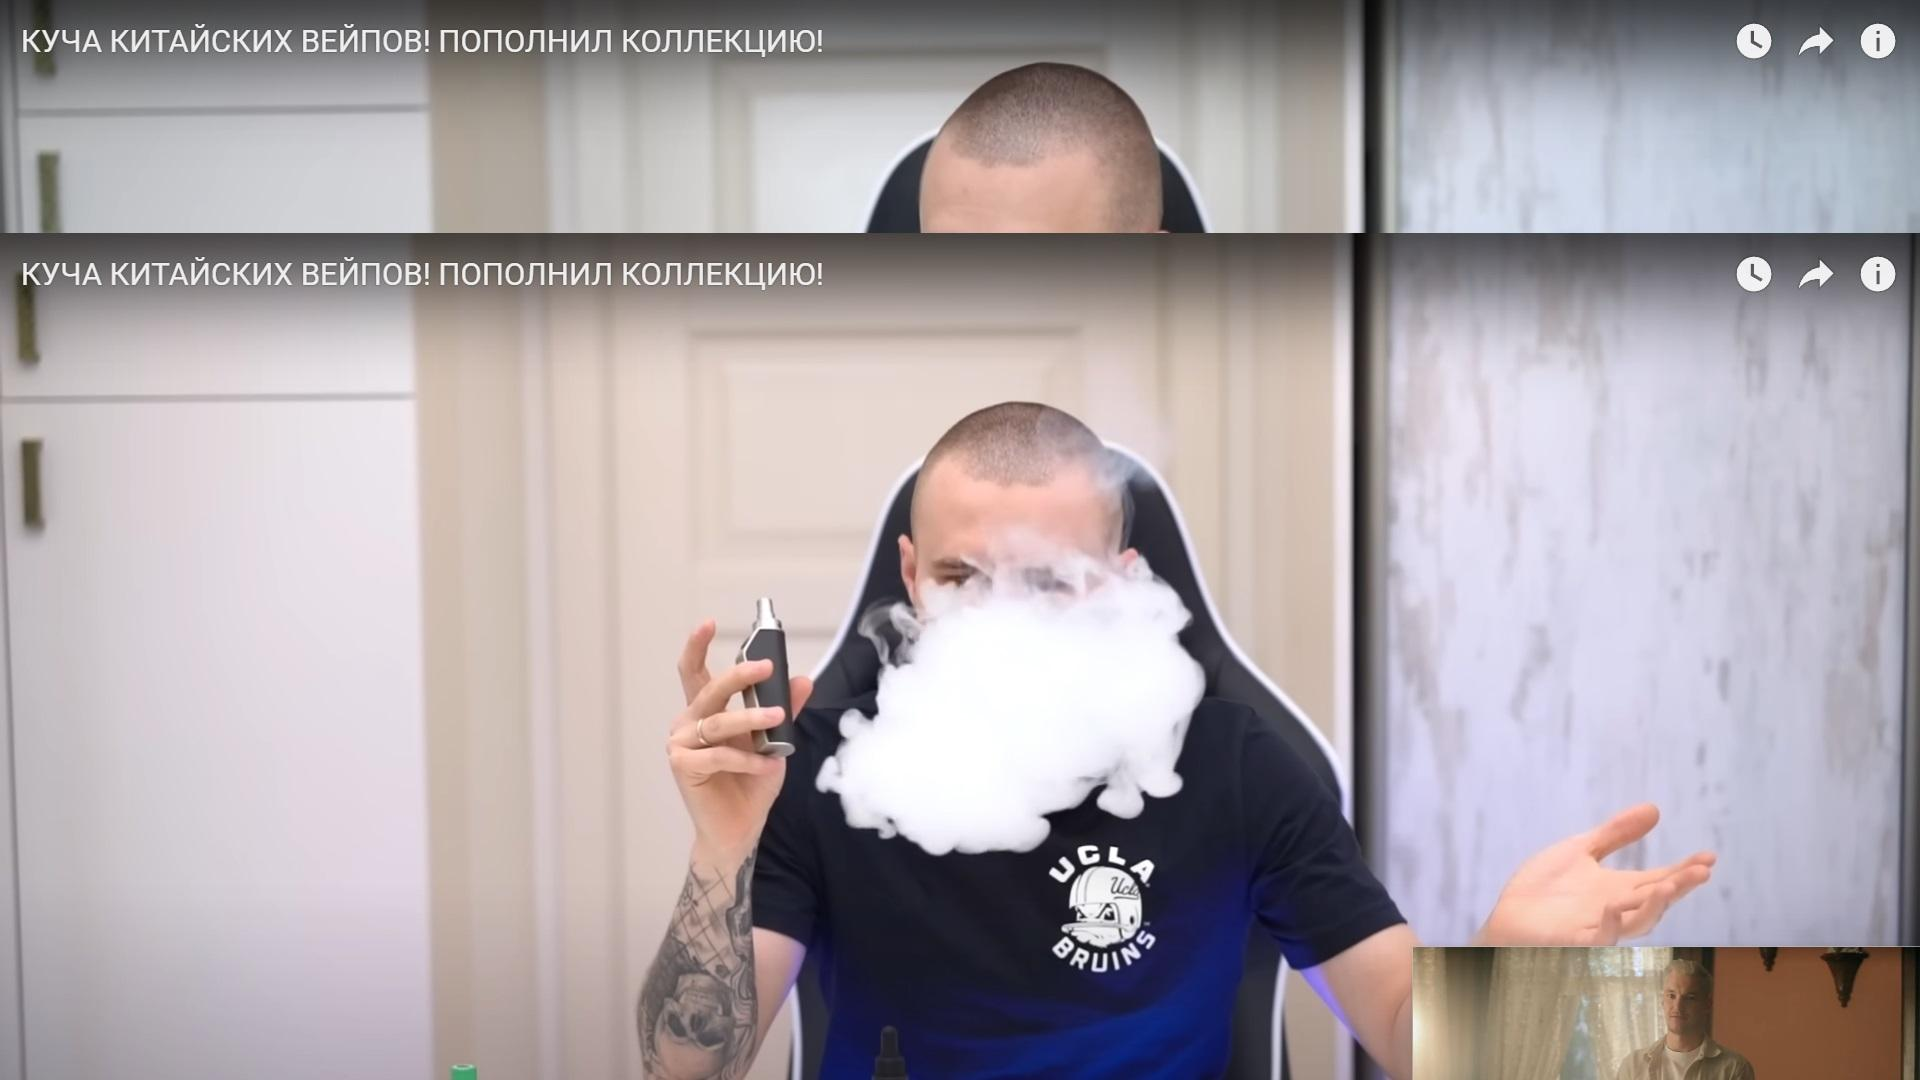Vape: (736, 597, 796, 758)
